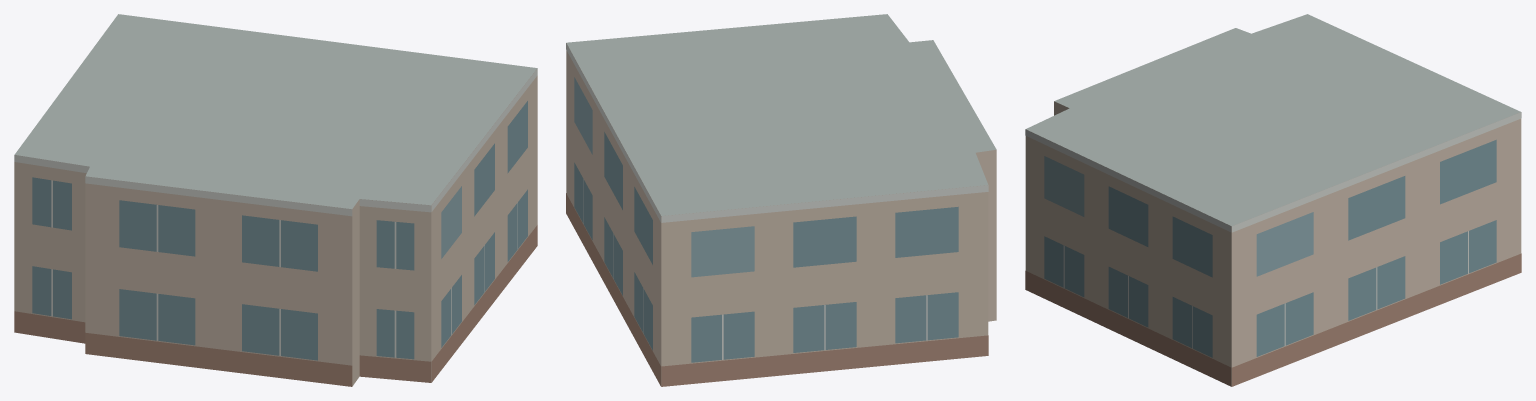
File: survey-upis-32686898.glb
3 views of the same model, side by side, from view 1: azimuth 30°, elevation 25°; view 2: azimuth 150°, elevation 25°; view 3: azimuth 270°, elevation 25° (orthographic). The views are drawn at different scales.
Visible parts, largest first — view 1: survey-upis-32686898.tmp; view 2: survey-upis-32686898.tmp; view 3: survey-upis-32686898.tmp.
Part boxes in pixels (x1=…): survey-upis-32686898.tmp: x1=14, y1=14, x2=537, y2=386; survey-upis-32686898.tmp: x1=566, y1=14, x2=996, y2=386; survey-upis-32686898.tmp: x1=1025, y1=14, x2=1521, y2=386.
Size of the model in its own units: 17.3 by 6.1 by 17.08.
